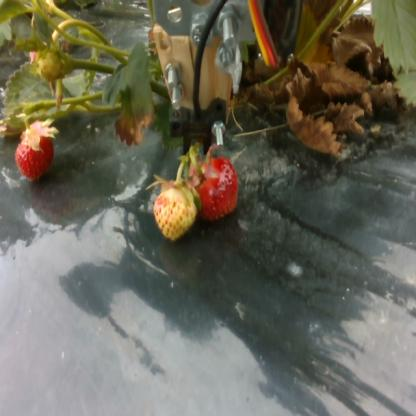ripe: (195, 156, 240, 223), (17, 121, 57, 180)
unripe: (153, 187, 195, 241)
